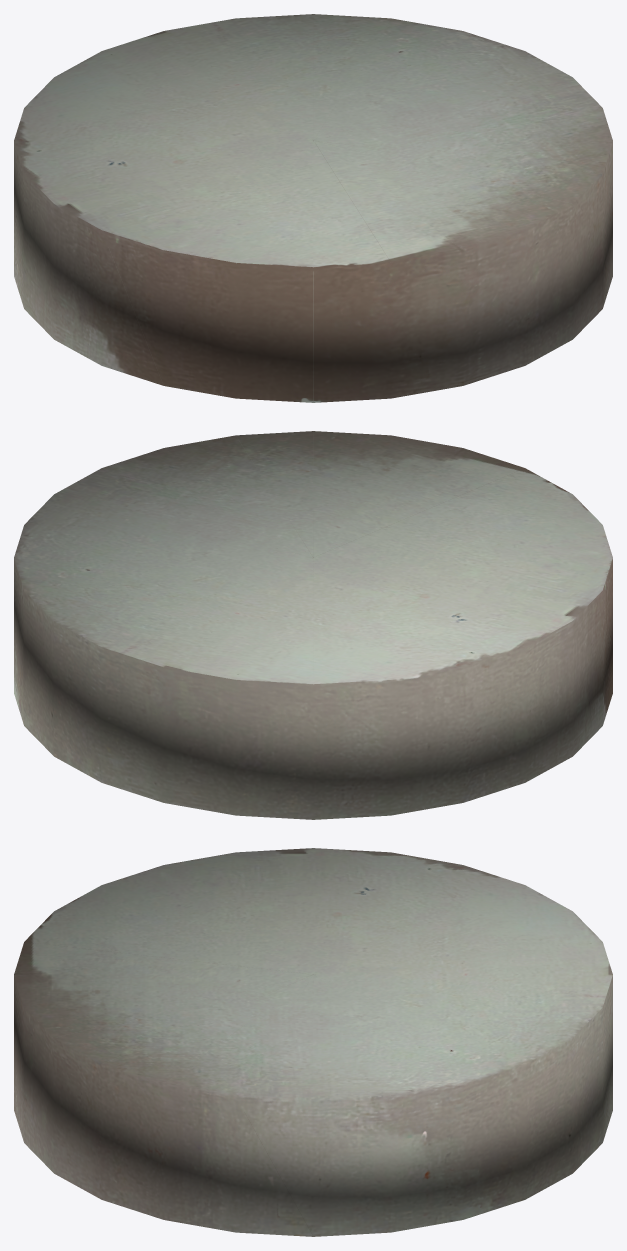
Rendered from SM_Tourelle_Base.glb.
The picture shows the model from 3 angles, top to bottom: view 1: azimuth 30°, elevation 25°; view 2: azimuth 150°, elevation 25°; view 3: azimuth 270°, elevation 25°; orthographic projection.
Bounding box in the file's own units: 2 × 0.5 × 2.
1 material, 1 textured.
